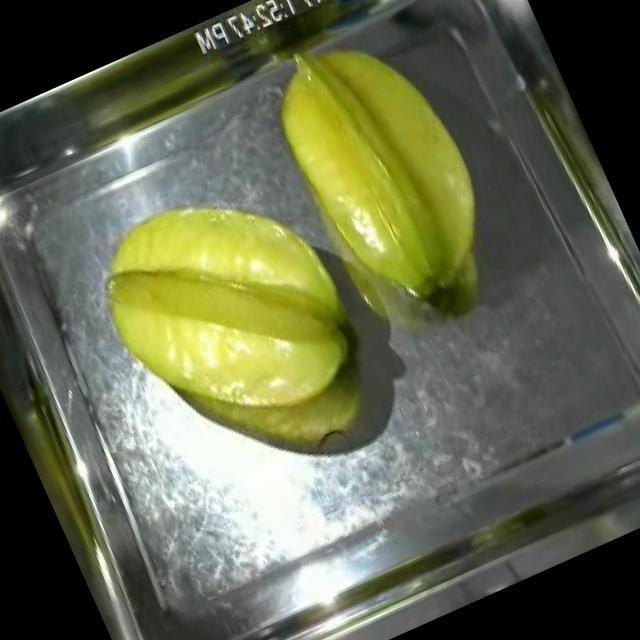fruit: (63, 143, 397, 484), (239, 0, 532, 350), (41, 7, 280, 192)
